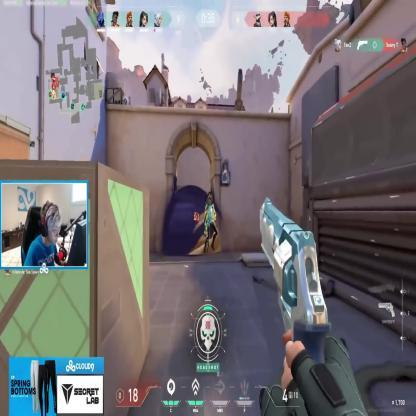enemy: (203, 192, 216, 255)
enemy_head: (208, 194, 212, 206)
